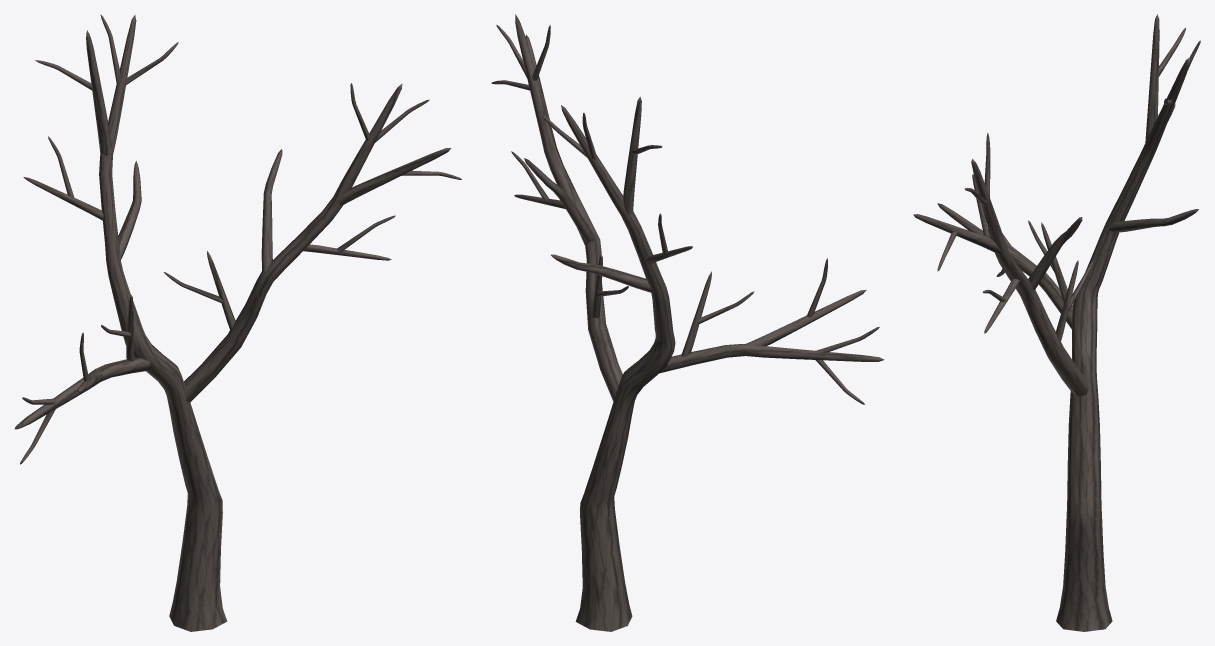
The model's file is quaternius-ultimate-stylized-nature-dead-tree-10.glb.
The picture shows the model from 3 angles, left to right: view 1: azimuth 30°, elevation 25°; view 2: azimuth 150°, elevation 25°; view 3: azimuth 270°, elevation 25°; orthographic projection. The views are drawn at different scales.
Visible parts, largest first — view 1: DeadTree_10; view 2: DeadTree_10; view 3: DeadTree_10.
Boxes of the visible parts, x1,y1,x2,y2 form: DeadTree_10: [15, 14, 461, 631]; DeadTree_10: [491, 14, 884, 631]; DeadTree_10: [913, 14, 1200, 631].
Size of the model in its own units: 5.46 by 7.13 by 3.24.
Materials: 1 (1 with a texture image).
